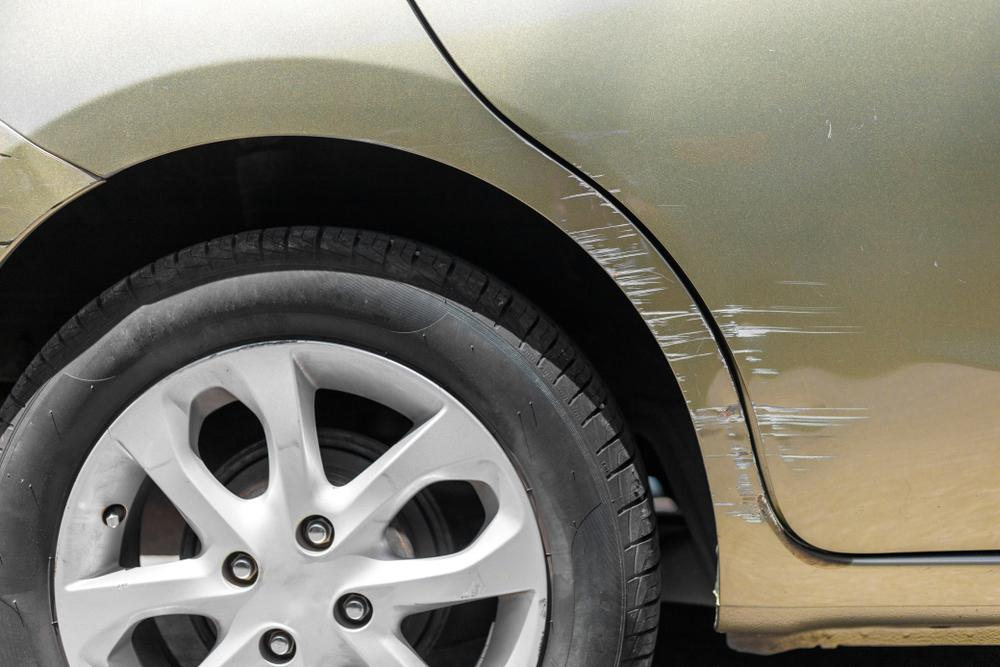scratch: (557, 171, 786, 532), (716, 270, 869, 467)
